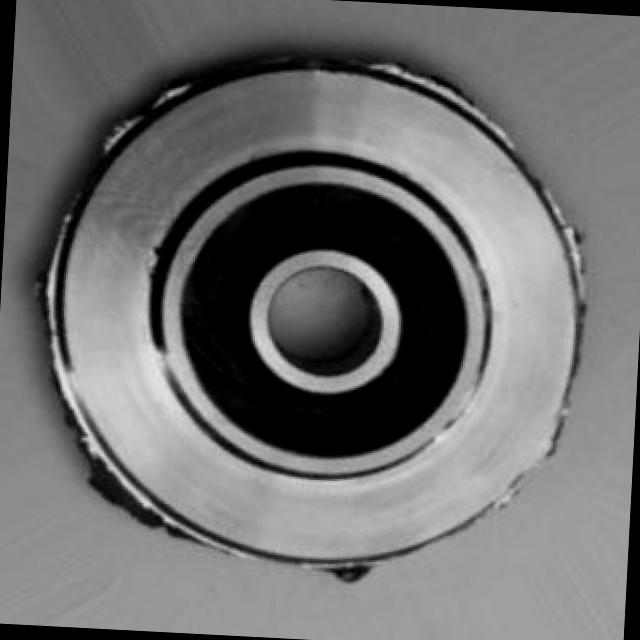Defect: (385, 54, 490, 111)
